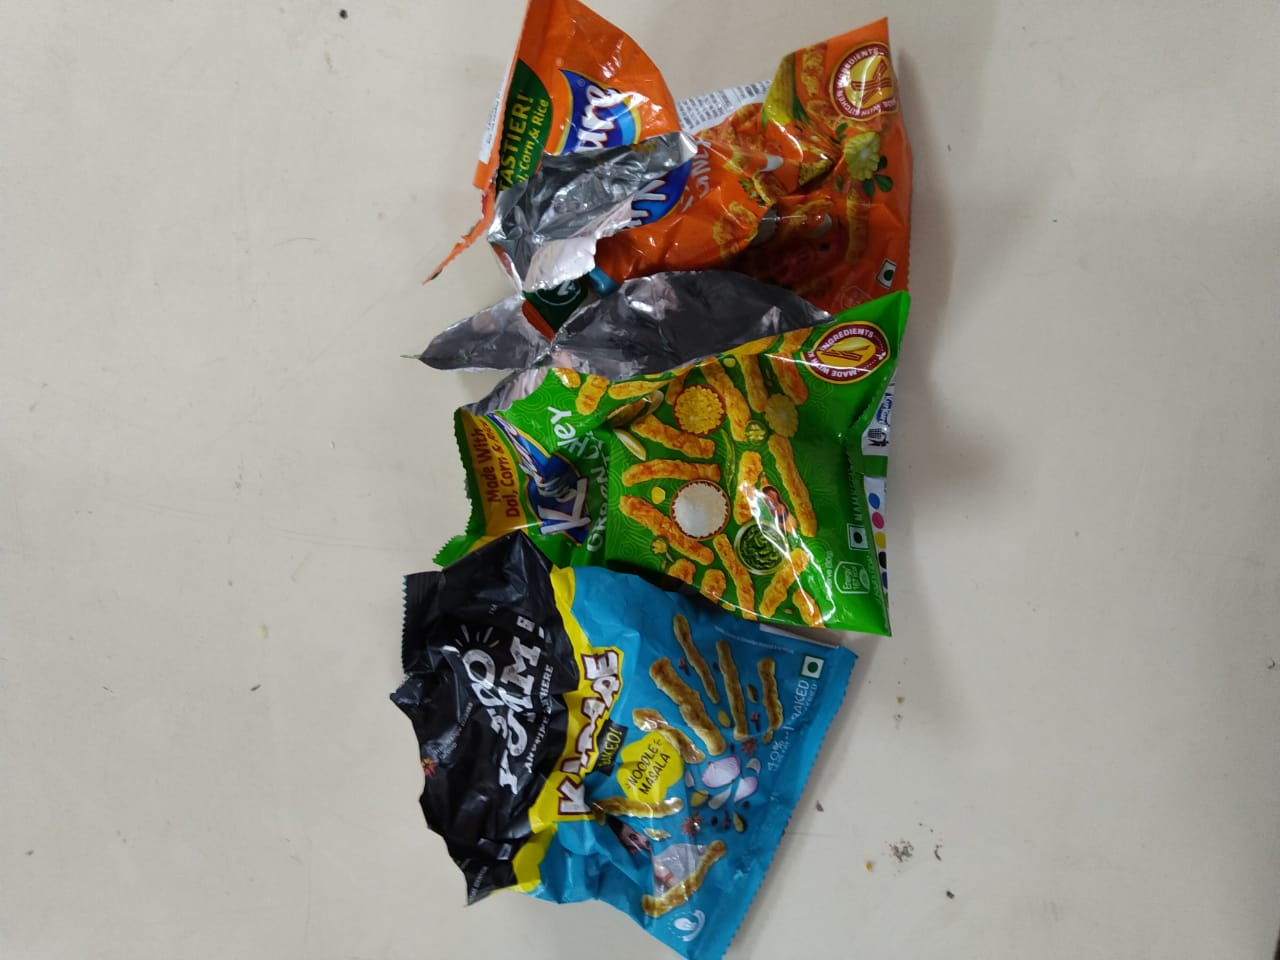kurkure: (493, 111, 717, 301), (517, 59, 721, 247), (493, 381, 617, 581), (501, 401, 603, 563)
plastic: (393, 17, 965, 903)
tooyumm: (457, 595, 577, 821), (437, 611, 545, 803)
wrapper: (397, 529, 863, 945), (425, 291, 907, 663), (431, 1, 929, 303)
